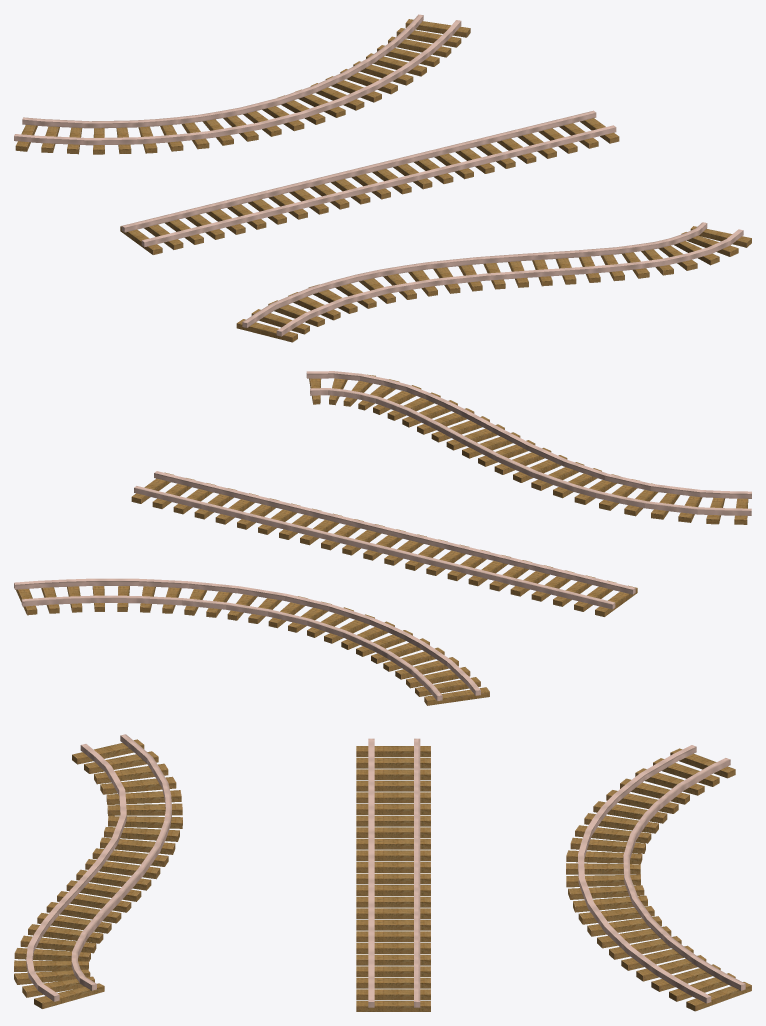
The model's file is RailWayTrackset.fbx.
3 views of the same model, one above another, from view 1: azimuth 30°, elevation 25°; view 2: azimuth 150°, elevation 25°; view 3: azimuth 270°, elevation 25° (orthographic). The views are drawn at different scales.
Parts seen in each view (by area): view 1: RailWayTreack, RailWayTreack.001, RailWayTreack.002; view 2: RailWayTreack, RailWayTreack.001, RailWayTreack.002; view 3: RailWayTreack.001, RailWayTreack.002, RailWayTreack.
Part boxes in pixels (x1,y1,x2,y2): RailWayTreack: (120, 110, 619, 254); RailWayTreack.001: (14, 14, 470, 154); RailWayTreack.002: (236, 222, 751, 342); RailWayTreack: (131, 471, 637, 616); RailWayTreack.001: (14, 578, 489, 705); RailWayTreack.002: (306, 371, 751, 524); RailWayTreack.001: (566, 745, 751, 1011); RailWayTreack.002: (14, 734, 182, 1008); RailWayTreack: (356, 738, 430, 1011).
Size of the model in its own units: 10188 by 198 by 11849.
1 material, 1 textured.
